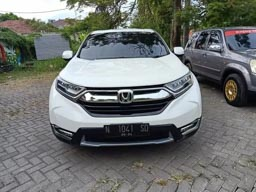plat: (104, 125, 149, 132)
